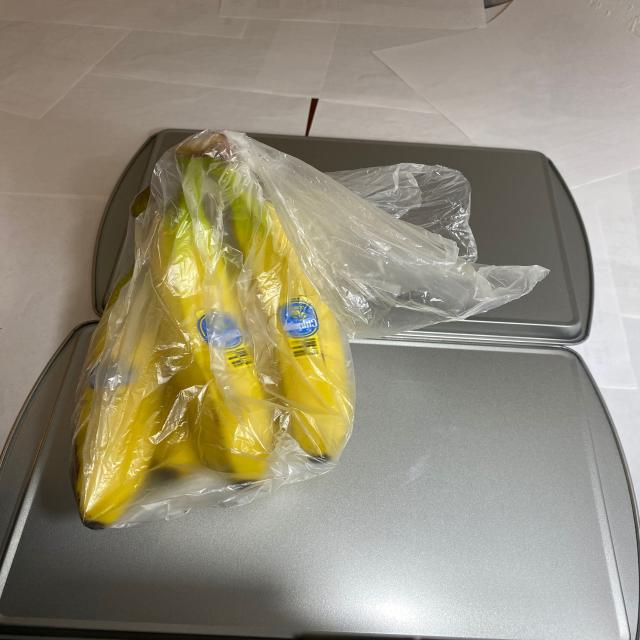banana: (66, 130, 375, 528)
